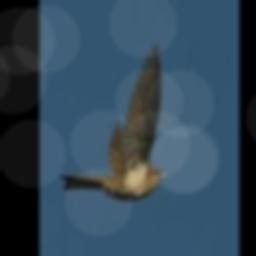Cuckoo: (59, 42, 166, 199)
